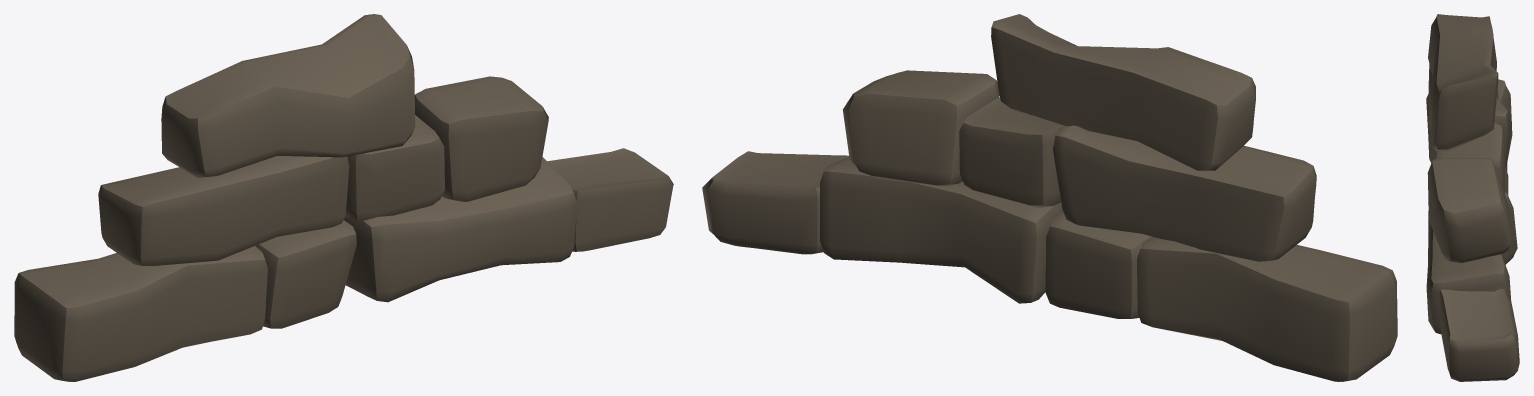
Rendered from broken wall 2.fbx.
3 views of the same model, side by side, from view 1: azimuth 30°, elevation 25°; view 2: azimuth 150°, elevation 25°; view 3: azimuth 270°, elevation 25° (orthographic). The views are drawn at different scales.
Parts seen in each view (by area): view 1: pCube30; view 2: pCube30; view 3: pCube30.
Part boxes in pixels (bbox=[...]): pCube30: bbox=[14, 14, 673, 381]; pCube30: bbox=[702, 14, 1397, 381]; pCube30: bbox=[1426, 14, 1519, 381].
Size of the model in its own units: 361 by 147 by 59.21.
